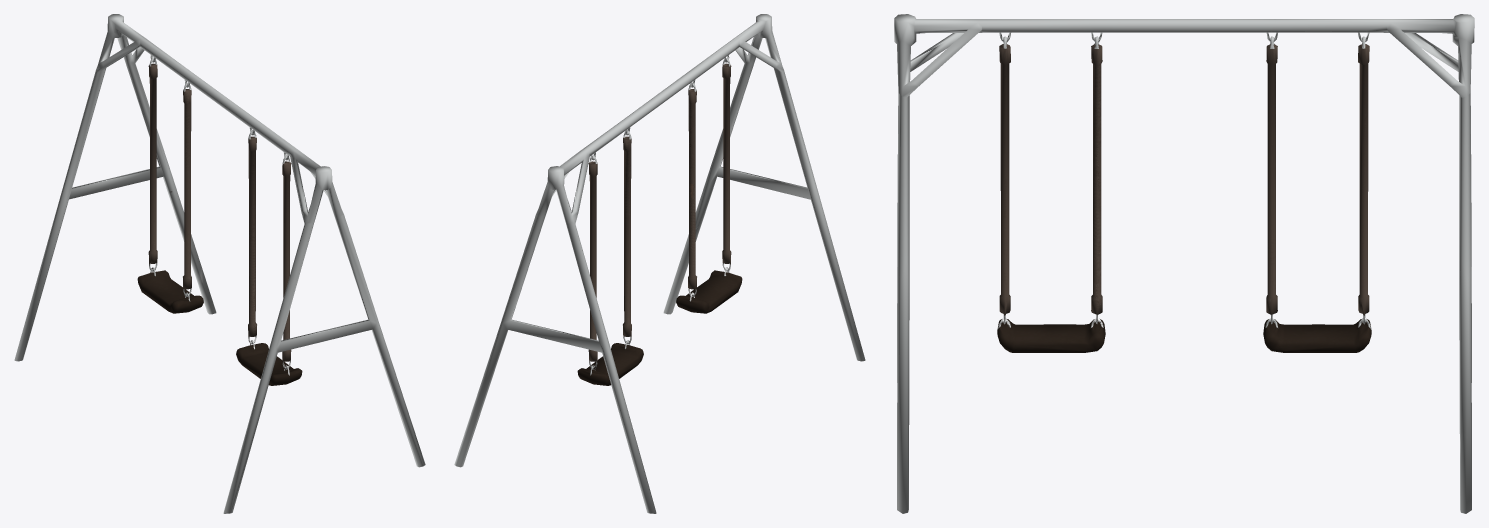
The model's file is swing.glb.
3 views of the same model, side by side, from view 1: azimuth 30°, elevation 25°; view 2: azimuth 150°, elevation 25°; view 3: azimuth 270°, elevation 25° (orthographic). The views are drawn at different scales.
Visible parts, largest first — view 1: SwingArmature, SwingRight, SwingLeft; view 2: SwingArmature, SwingLeft, SwingRight; view 3: SwingArmature, SwingLeft, SwingRight.
Boxes of the visible parts, bbox=[...] form: SwingArmature: bbox=[14, 14, 425, 513]; SwingRight: bbox=[137, 58, 203, 313]; SwingLeft: bbox=[236, 131, 302, 385]; SwingArmature: bbox=[454, 14, 865, 513]; SwingLeft: bbox=[676, 58, 742, 313]; SwingRight: bbox=[577, 130, 643, 385]; SwingArmature: bbox=[894, 14, 1474, 513]; SwingLeft: bbox=[997, 36, 1105, 352]; SwingRight: bbox=[1263, 36, 1371, 352].
Size of the model in its own units: 8.1 by 12.27 by 14.99.
1 material, 1 textured.
